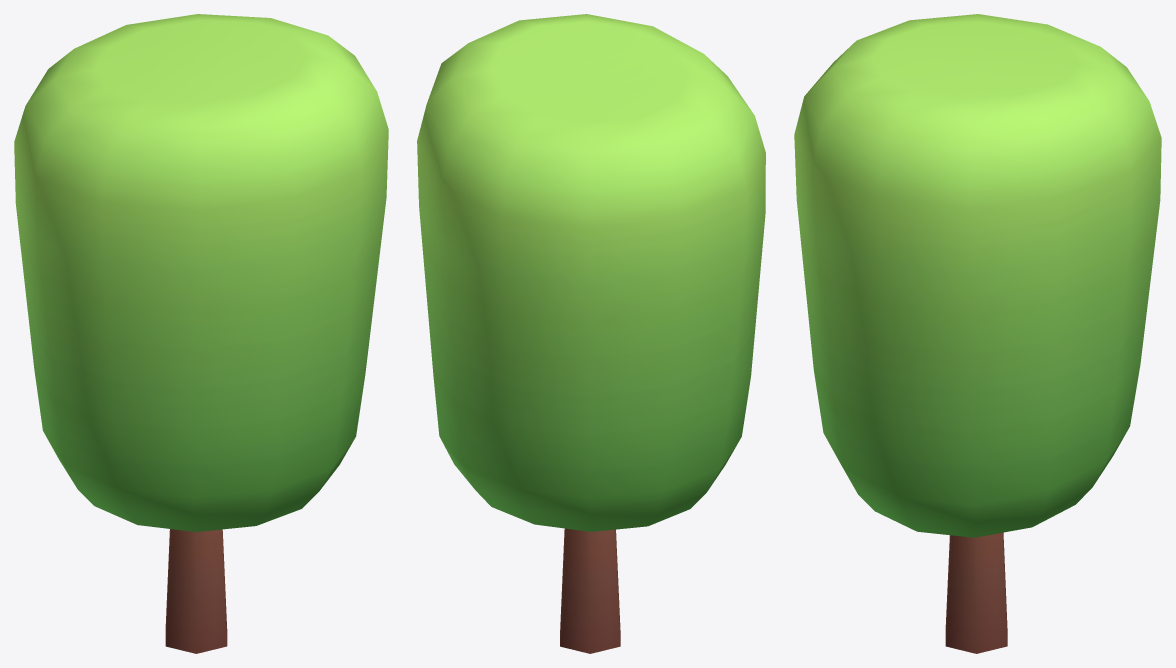
The model's file is city2-tree-03.glb.
3 views of the same model, side by side, from view 1: azimuth 30°, elevation 25°; view 2: azimuth 150°, elevation 25°; view 3: azimuth 270°, elevation 25° (orthographic). The views are drawn at different scales.
Parts seen in each view (by area): view 1: Tree_03; view 2: Tree_03; view 3: Tree_03.
Part boxes in pixels (left/top/right/bottom): Tree_03: left=14, top=14, right=388, bottom=653; Tree_03: left=417, top=14, right=765, bottom=653; Tree_03: left=794, top=14, right=1161, bottom=653.
Size of the model in its own units: 3.42 by 5.82 by 3.3.
Materials: 1 (1 with a texture image).
